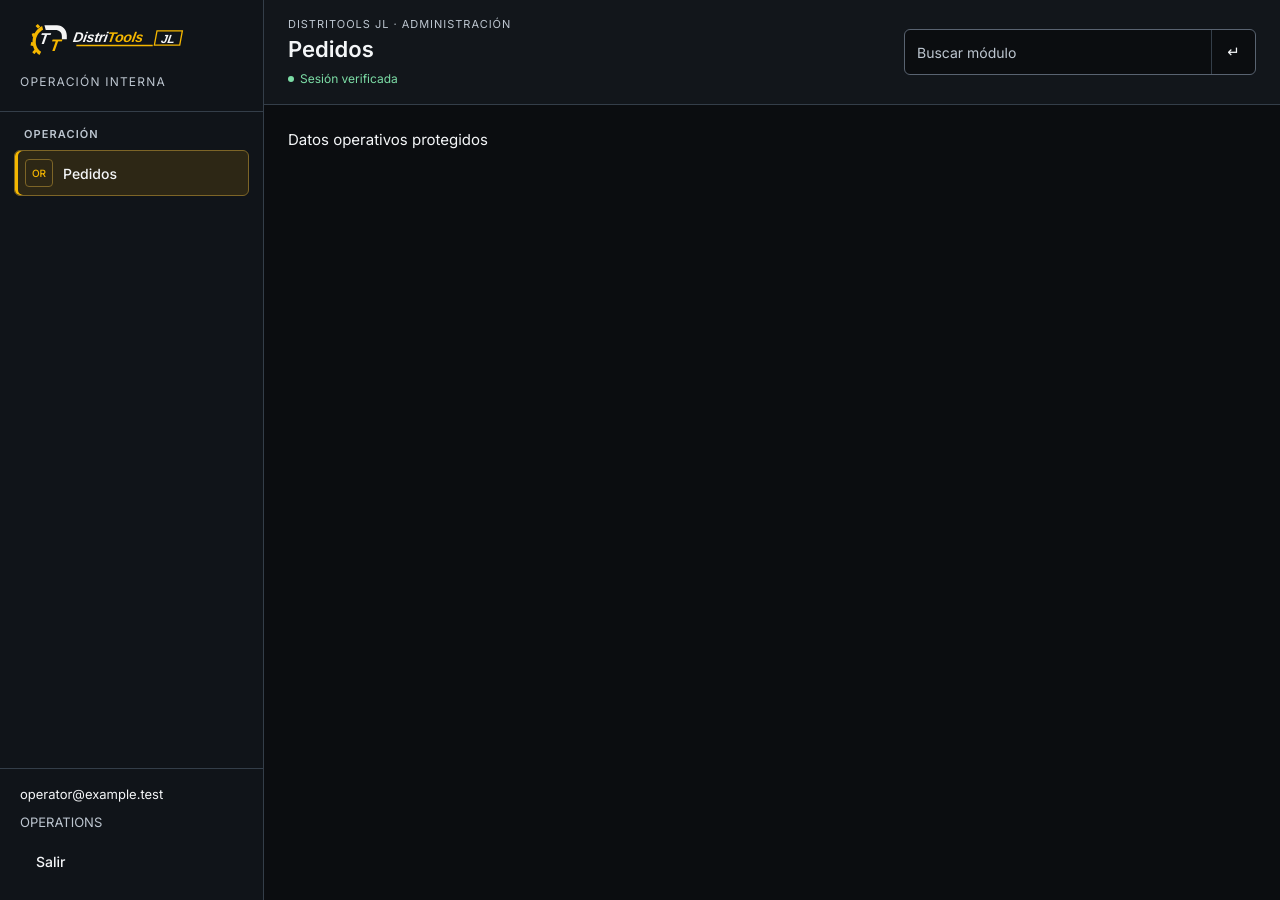
Test: EX08 F2 shell integration — HTTP fixtures, no backend certification › clears cached identity, links and content after a local-only logout401, then requests fresh session authority
This screenshot has width=1280, height=900.
Expected: the text "Datos operativos protegidos" is shown, [288,130,488,149]
Click the button "Salir" at (132, 862), box [20,840,243,884]
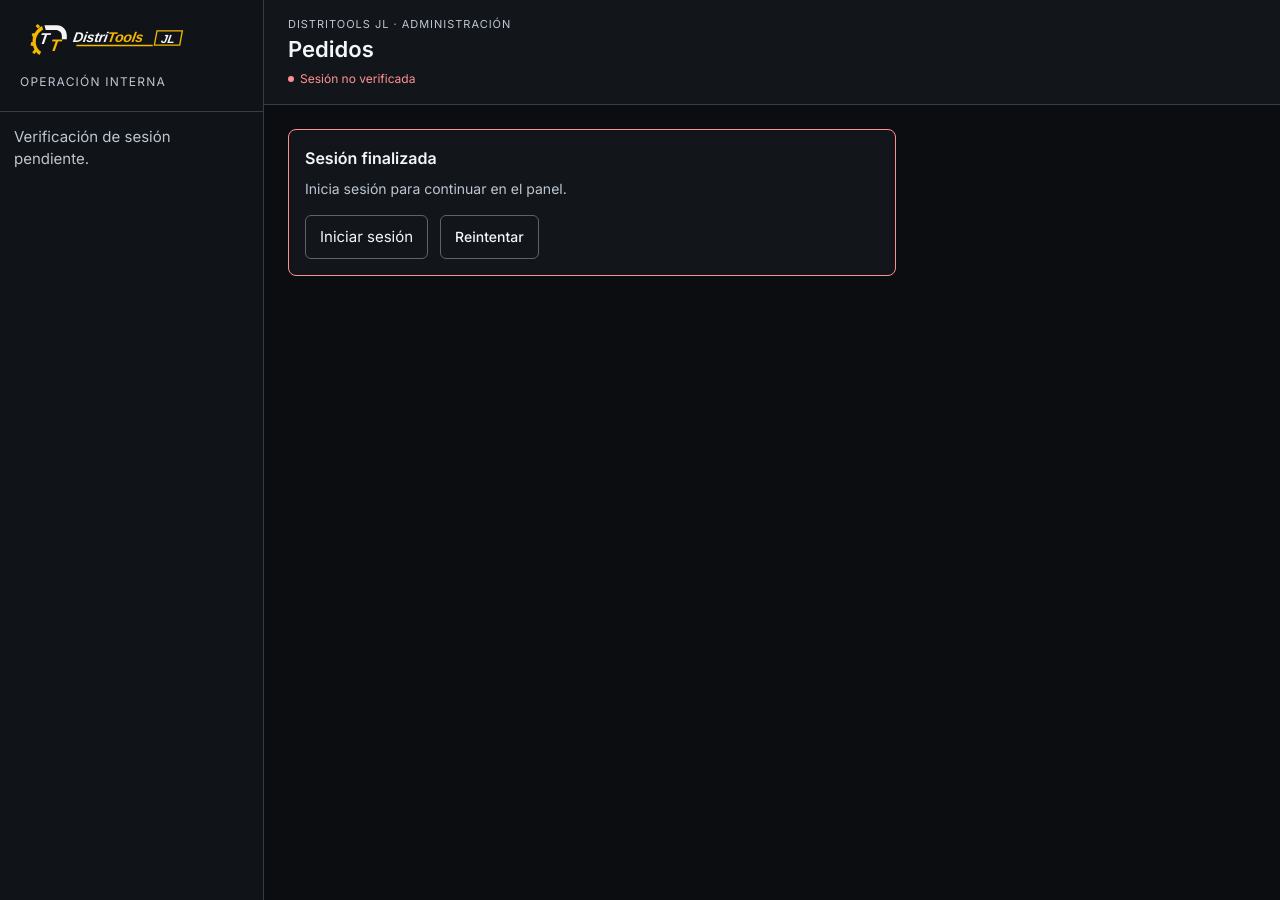
Expected: the message shows "Sesión finalizada", [305,148,437,168]
Expected: the text "operator@example.test" is gone
Expected: the text "Datos operativos protegidos" is gone
